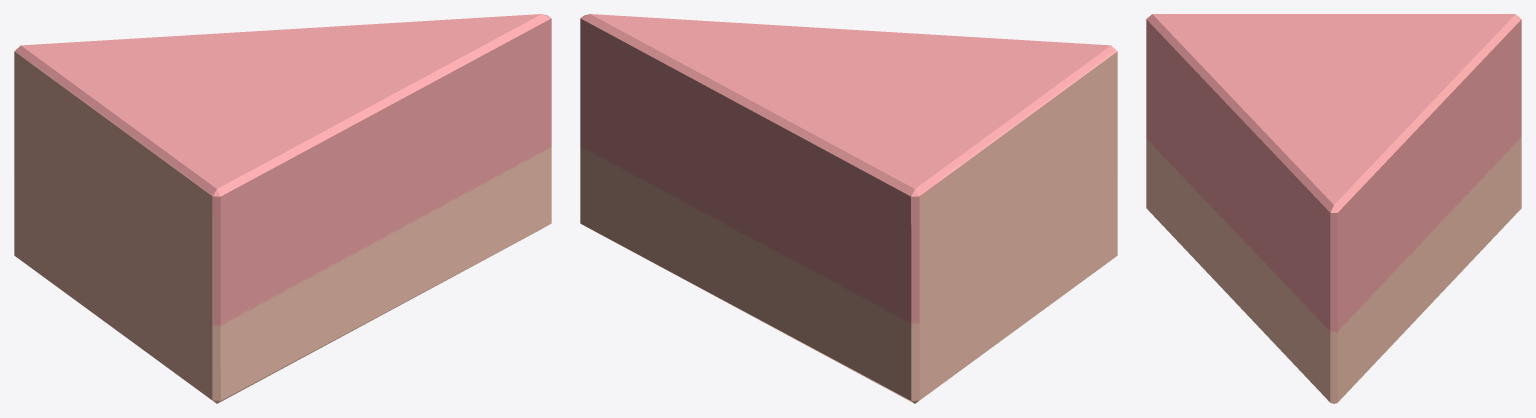
File: Oden_Cake.gltf
The picture shows the model from 3 angles, left to right: view 1: azimuth 30°, elevation 25°; view 2: azimuth 150°, elevation 25°; view 3: azimuth 270°, elevation 25°; orthographic projection. The views are drawn at different scales.
Parts seen in each view (by area): view 1: Oden_Cake; view 2: Oden_Cake; view 3: Oden_Cake.
Part boxes in pixels (bbox=[...]): Oden_Cake: bbox=[14, 14, 551, 403]; Oden_Cake: bbox=[580, 14, 1117, 403]; Oden_Cake: bbox=[1146, 14, 1521, 403].
Bounding box in the file's own units: 1.89 × 0.8918 × 1.53.
Materials: 1 (1 with a texture image).
